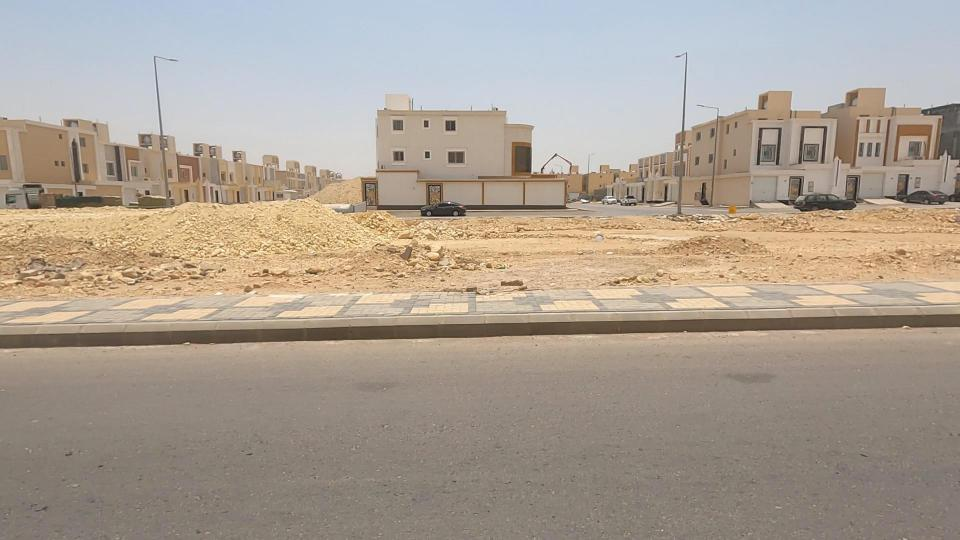GARBAGE: (542, 203, 653, 271)
